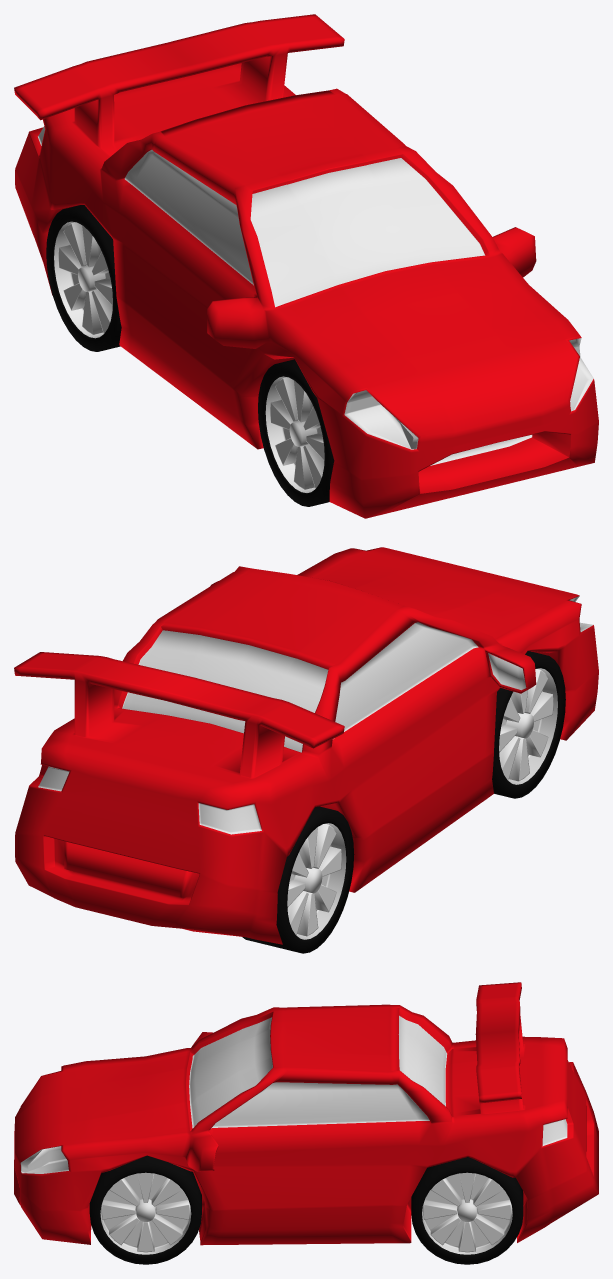
File: CarDemo.fbx
3 views of the same model, one above another, from view 1: azimuth 30°, elevation 25°; view 2: azimuth 150°, elevation 25°; view 3: azimuth 270°, elevation 25° (orthographic). The views are drawn at different scales.
Parts seen in each view (by area): view 1: Body, Tire_BR, Tire_FR; view 2: Body, Tire_BR, Tire_FR; view 3: Body, Tire_FL, Tire_BL.
Boxes of the visible parts, x1,y1,x2,y2 form: Body: (14, 14, 598, 518); Tire_BR: (46, 205, 121, 351); Tire_FR: (258, 359, 334, 506); Body: (14, 547, 598, 944); Tire_BR: (242, 806, 354, 953); Tire_FR: (492, 651, 565, 798); Body: (14, 982, 598, 1245); Tire_FL: (89, 1155, 201, 1264); Tire_BL: (411, 1157, 523, 1264).
Size of the model in its own units: 2.53 by 1.88 by 5.22.
